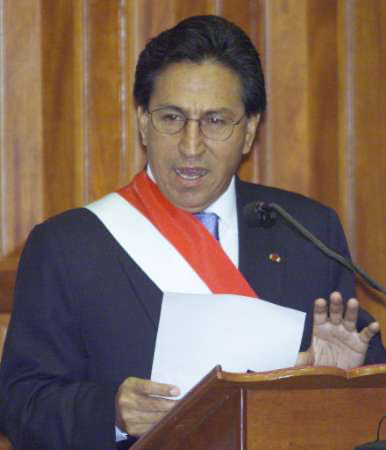Face: (143, 78, 252, 206)
